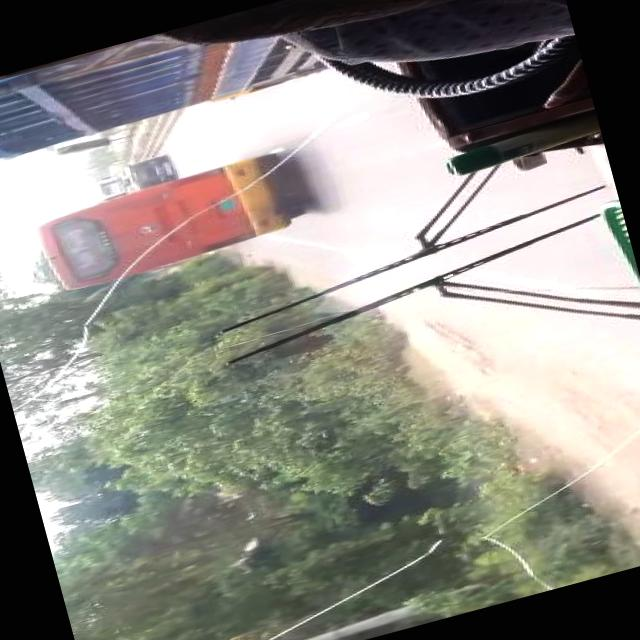bus: (35, 154, 288, 293)
truck: (0, 0, 328, 180), (88, 154, 172, 202)
